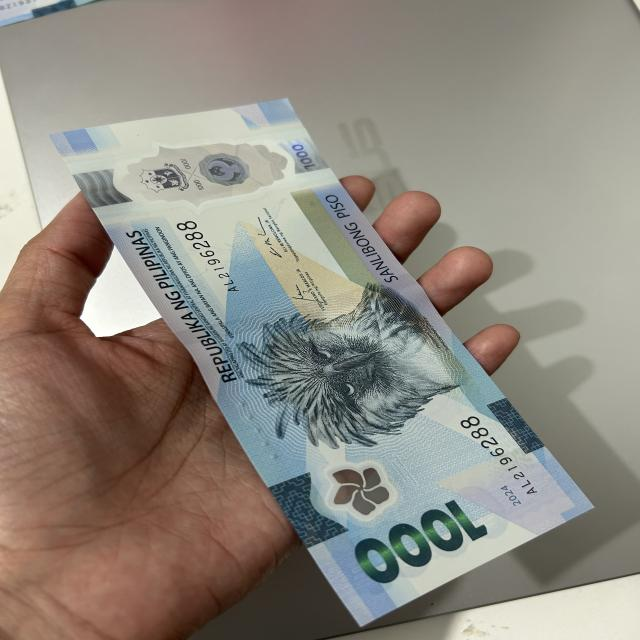clear_window: (100, 140, 310, 207)
eagle: (220, 311, 480, 442)
sampaguita: (315, 464, 391, 514)
